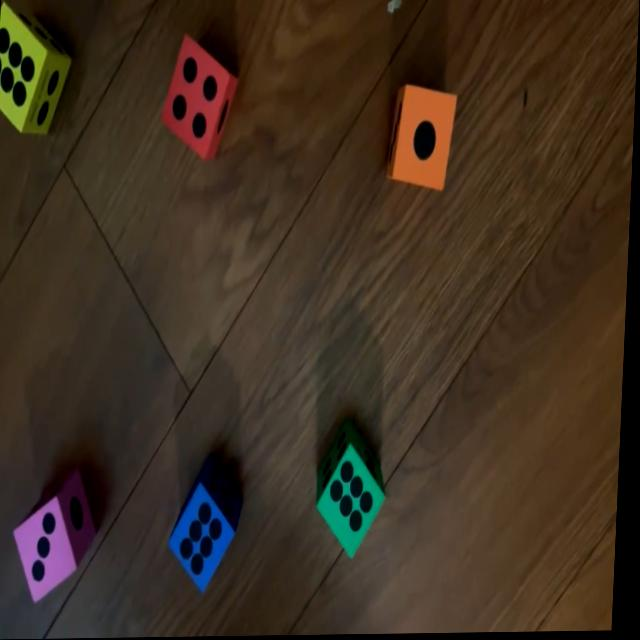blue_block: (173, 457, 246, 594)
red_block: (161, 36, 239, 159)
